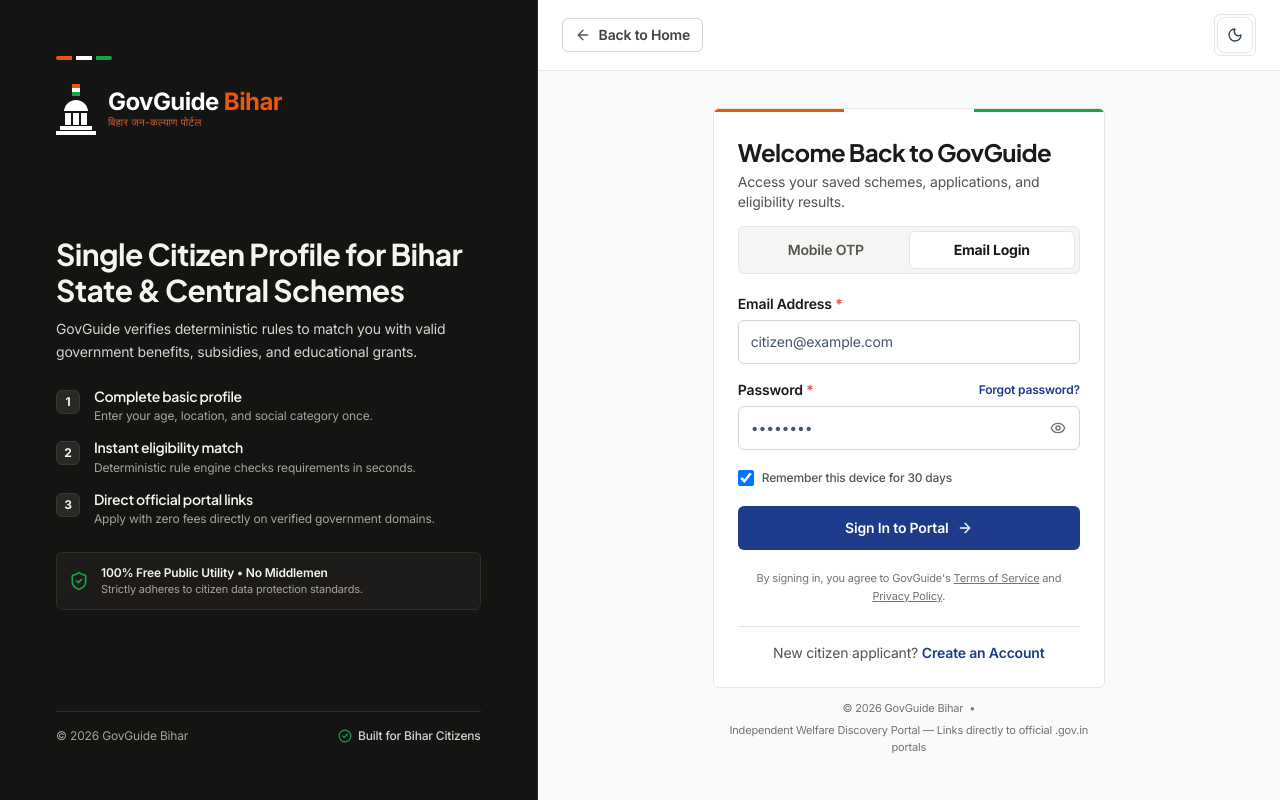
Scenario: Key Application Pages › LoginPage validates empty and malformed inputs before submission
Click the button "Sign In to Portal".
click(909, 528)  # box [738, 506, 1080, 550]
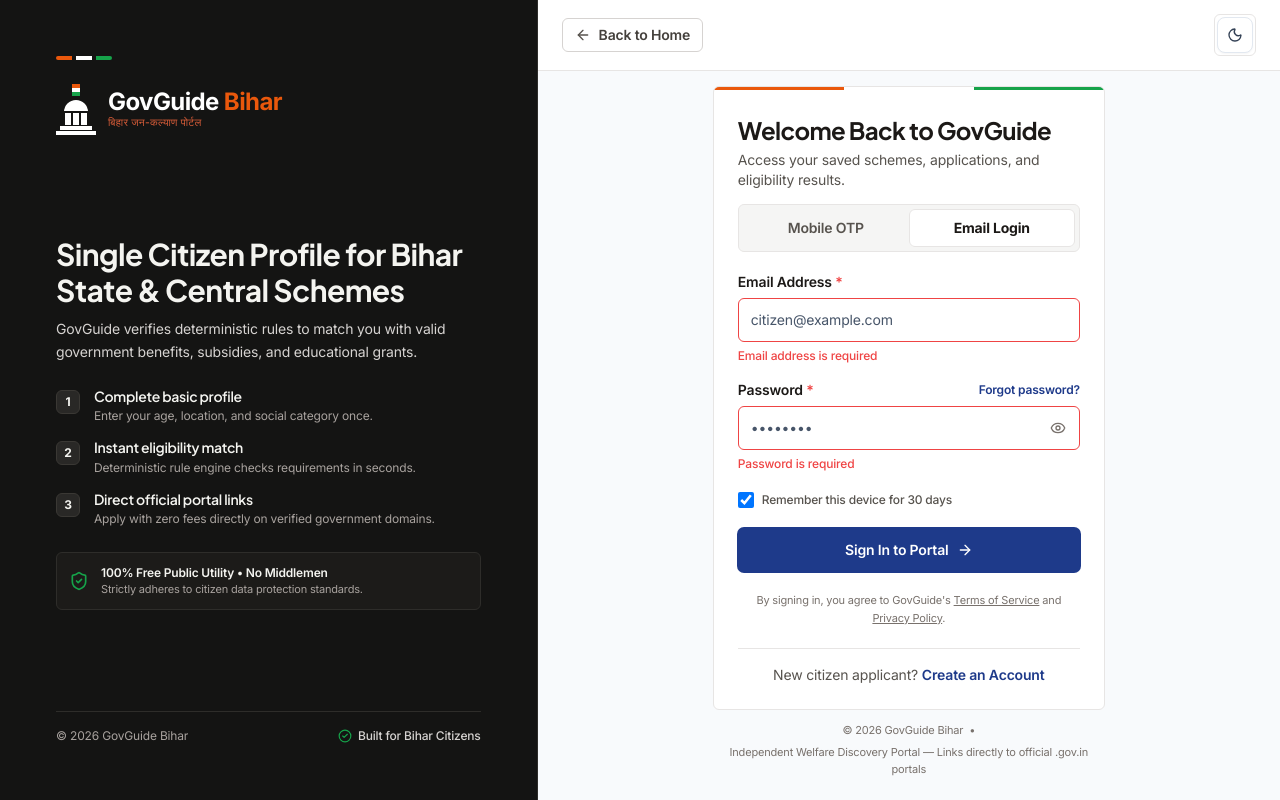
Expected: the text "Email address is required" is shown, [738, 348, 877, 363]
Expected: the text "Password is required" is shown, [738, 456, 854, 471]
Type "bad-email" into the field labelled "Email Address *".
click(909, 320); type("bad-email")  # box [738, 298, 1080, 342]
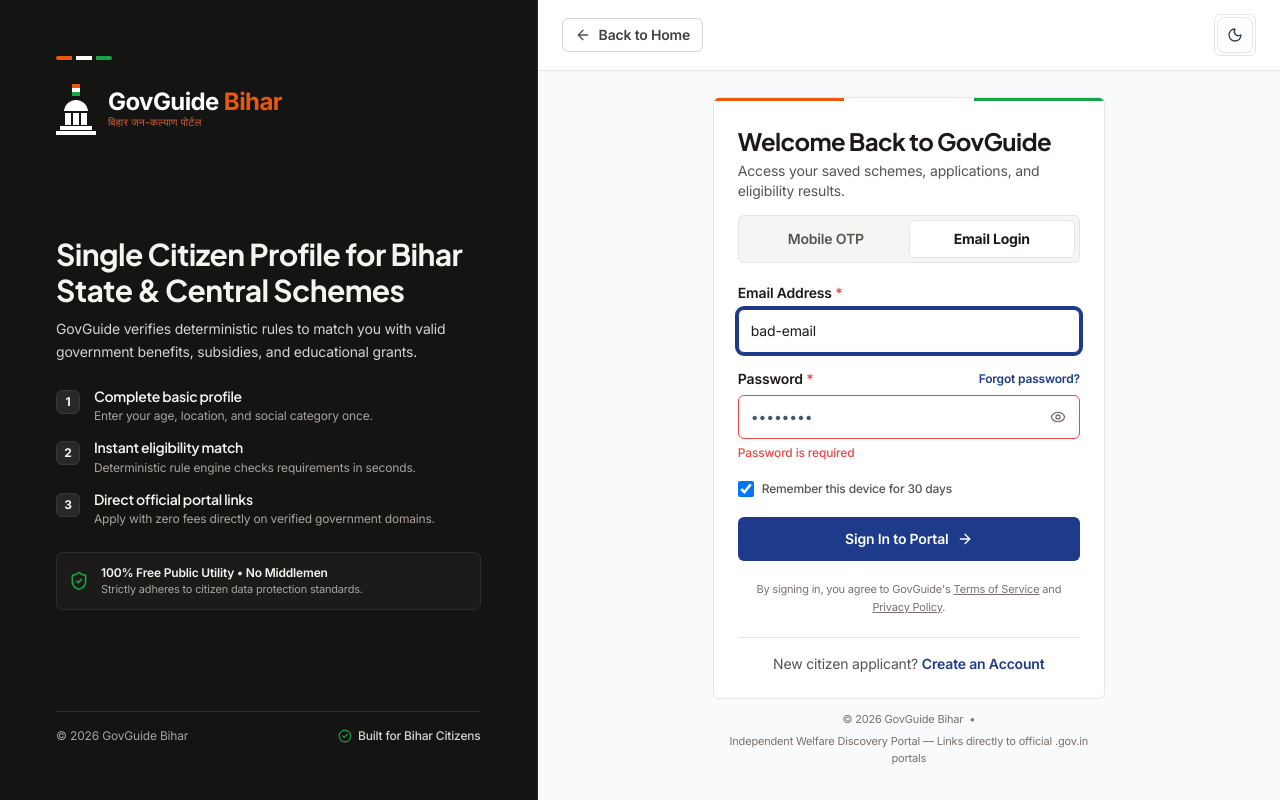
Type "123456" into the password field labelled "Password *".
click(909, 417); type("123456")  # box [738, 395, 1080, 439]
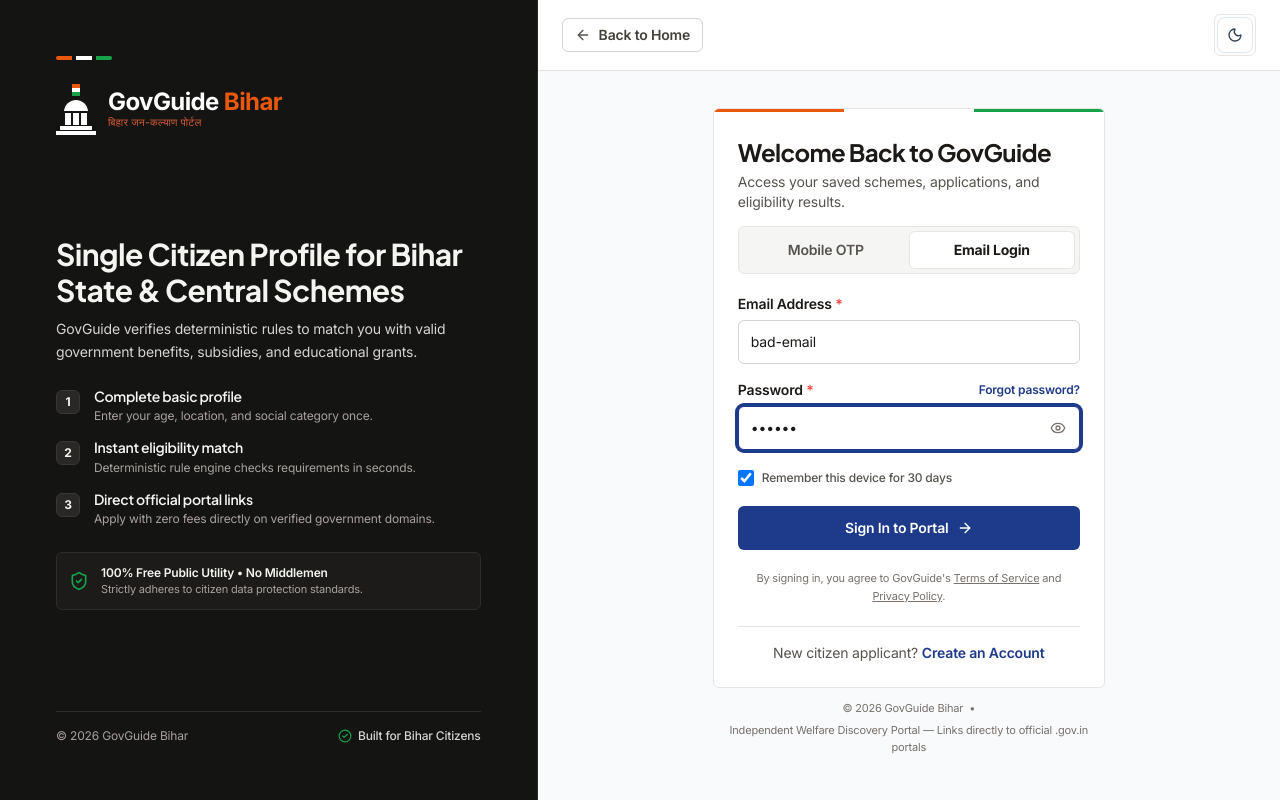
Click the button "Sign In to Portal".
click(909, 528)  # box [738, 506, 1080, 550]
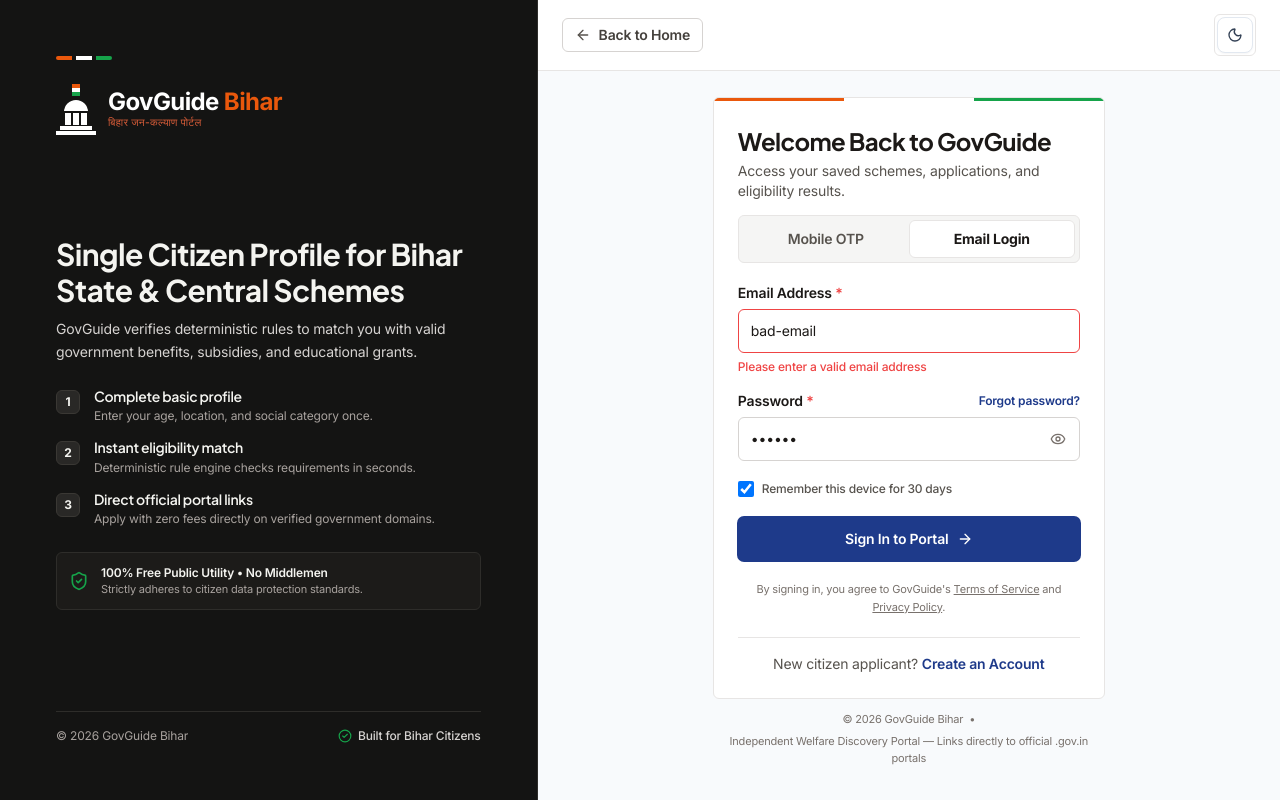
Expected: the text "Please enter a valid email address" is shown, [738, 359, 926, 374]
